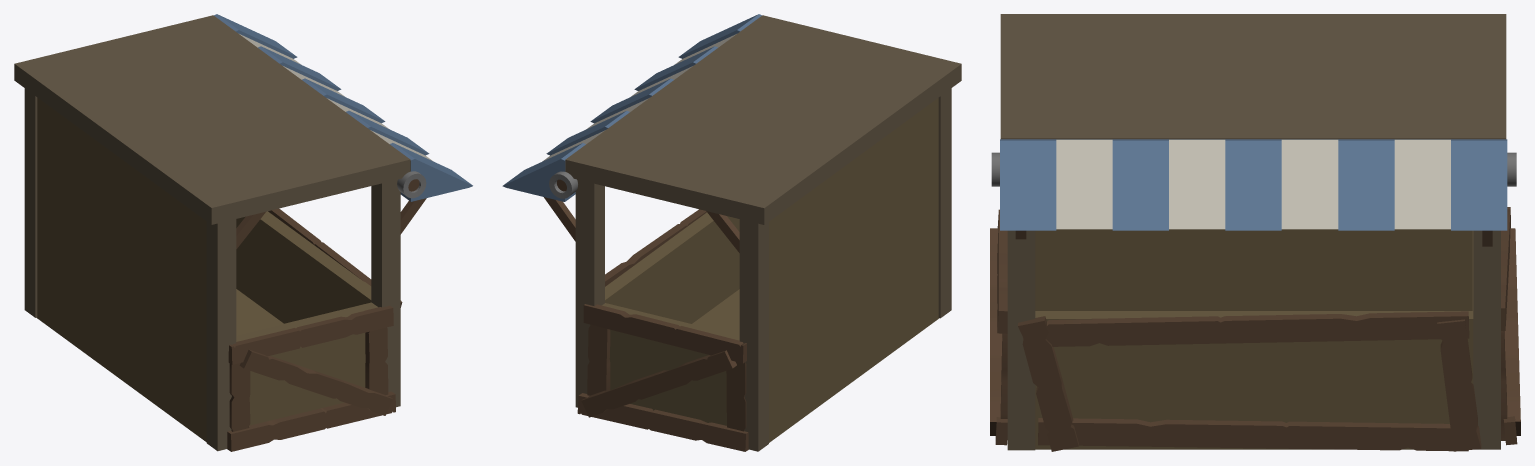
Rendered from RATION KITCHEN COLOURED.fbx.
3 views of the same model, side by side, from view 1: azimuth 30°, elevation 25°; view 2: azimuth 150°, elevation 25°; view 3: azimuth 270°, elevation 25° (orthographic). The views are drawn at different scales.
Visible parts, largest first — view 1: pCube1, pCube6, pCube5, pCube7, pCube2, pCube16, pCube20, pCube17, pCube4, pCube13, pCube14, pCube9 (+1 smaller); view 2: pCube1, pCube6, pCube4, pCube7, pCube3, pCube19, pCube18, pCube21, pCube5, pCube15, pCube12, pCube9 (+3 smaller); view 3: pCube1, pCube6, pCube7, pCube9, pCube8, pCube3, pCube2, pCube10, pCube11, pCube21, pCube20, pCube16 (+3 smaller).
Part boxes in pixels (box(x1,y1,x2,y2)): pCube1: box(36, 97, 377, 441); pCube6: box(14, 15, 410, 224); pCube5: box(206, 219, 236, 451); pCube7: box(214, 14, 472, 201); pCube2: box(371, 179, 400, 407); pCube16: box(228, 305, 393, 364); pCube20: box(239, 349, 392, 415); pCube17: box(227, 391, 395, 451); pCube4: box(24, 88, 37, 317); pCube13: box(364, 307, 388, 394); pCube14: box(229, 363, 250, 431); pCube9: box(268, 208, 371, 285); pCube1: box(602, 98, 939, 442); pCube6: box(565, 15, 961, 224); pCube4: box(739, 219, 768, 451); pCube7: box(502, 14, 761, 201); pCube3: box(575, 179, 604, 407); pCube19: box(583, 304, 746, 363); pCube18: box(577, 393, 748, 451); pCube21: box(581, 350, 736, 417); pCube5: box(938, 88, 951, 318); pCube15: box(587, 324, 610, 395); pCube12: box(726, 362, 746, 431); pCube9: box(605, 209, 706, 286); pCube1: box(1035, 229, 1473, 449); pCube6: box(1000, 14, 1506, 139); pCube7: box(1000, 139, 1507, 230); pCube9: box(1046, 311, 1469, 346); pCube8: box(1038, 418, 1468, 451); pCube3: box(1473, 230, 1500, 449); pCube2: box(1007, 230, 1035, 450); pCube10: box(1017, 316, 1078, 451); pCube11: box(1437, 319, 1481, 451); pCube21: box(1504, 228, 1520, 435); pCube20: box(990, 228, 1002, 435); pCube16: box(997, 209, 1007, 333).
Size of the model in its own units: 11.33 by 10.25 by 15.53.
